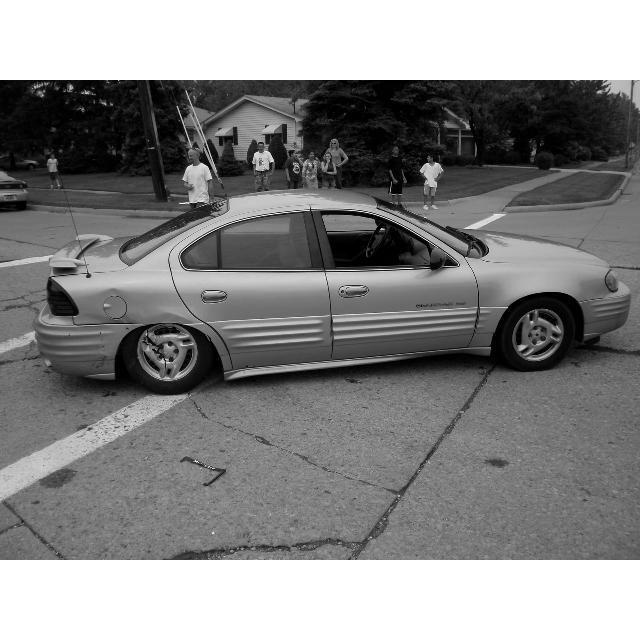quaterpanel-dent: (75, 274, 182, 335)
